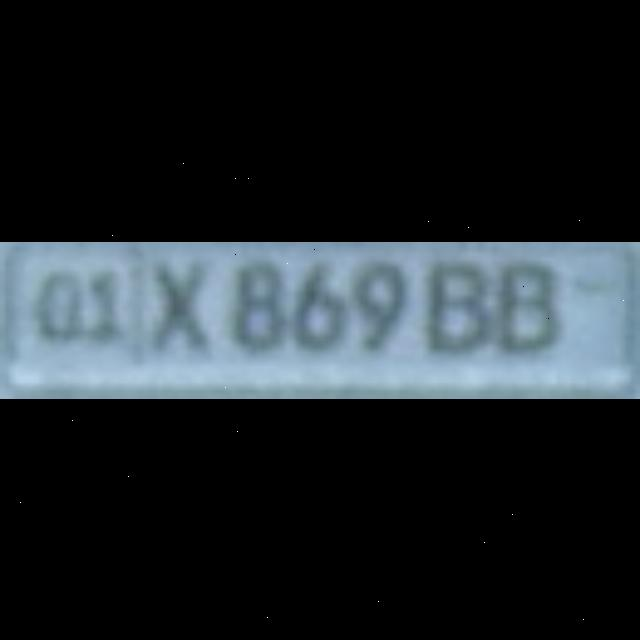0: (30, 266, 74, 334)
1: (78, 266, 118, 334)
6: (290, 256, 340, 344)
8: (232, 256, 280, 344)
9: (349, 256, 398, 344)
B: (423, 256, 482, 344), (492, 256, 546, 344)
X: (143, 256, 197, 344)
